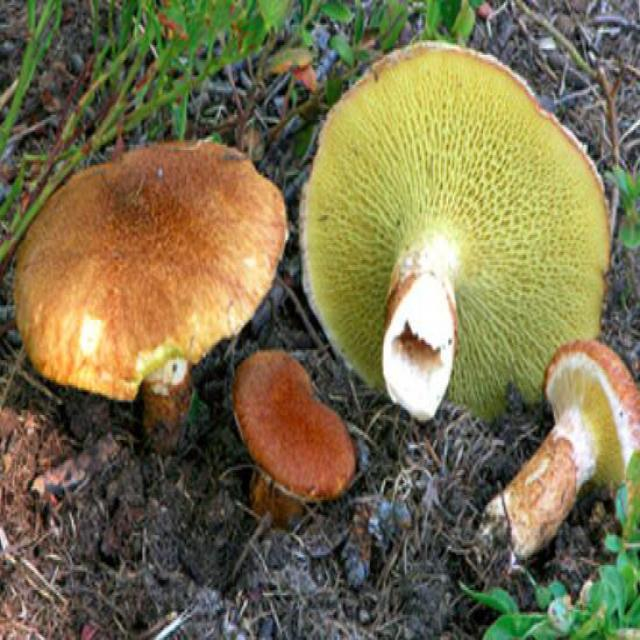Boletus: (303, 42, 606, 415), (13, 142, 287, 392), (482, 341, 640, 555), (235, 355, 356, 508)
